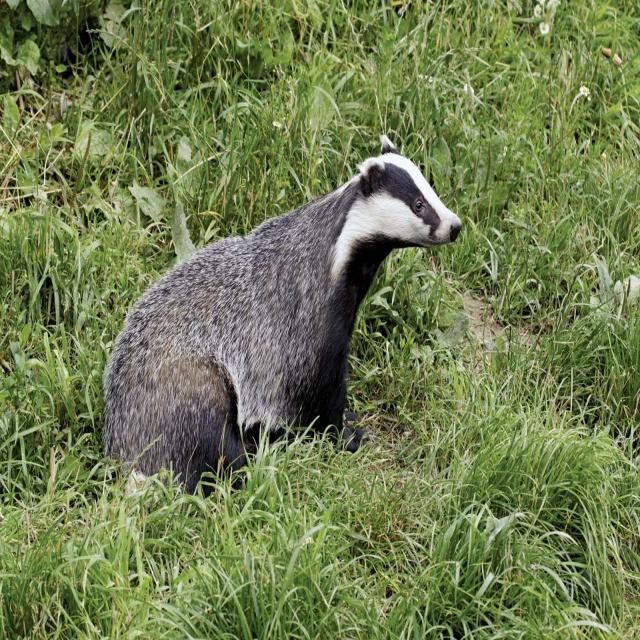Badger: (100, 147, 466, 505)
